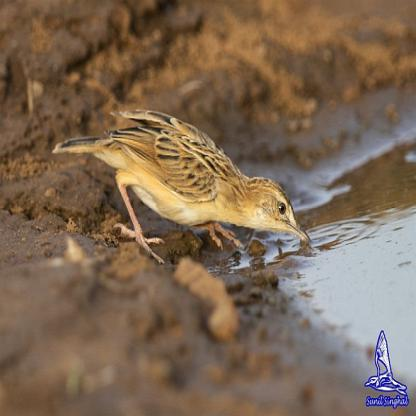Burung: (51, 110, 310, 264)
